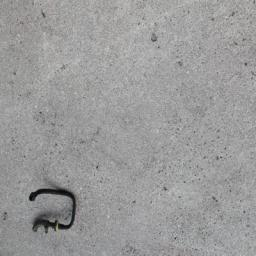FOD: (27, 182, 81, 238)
